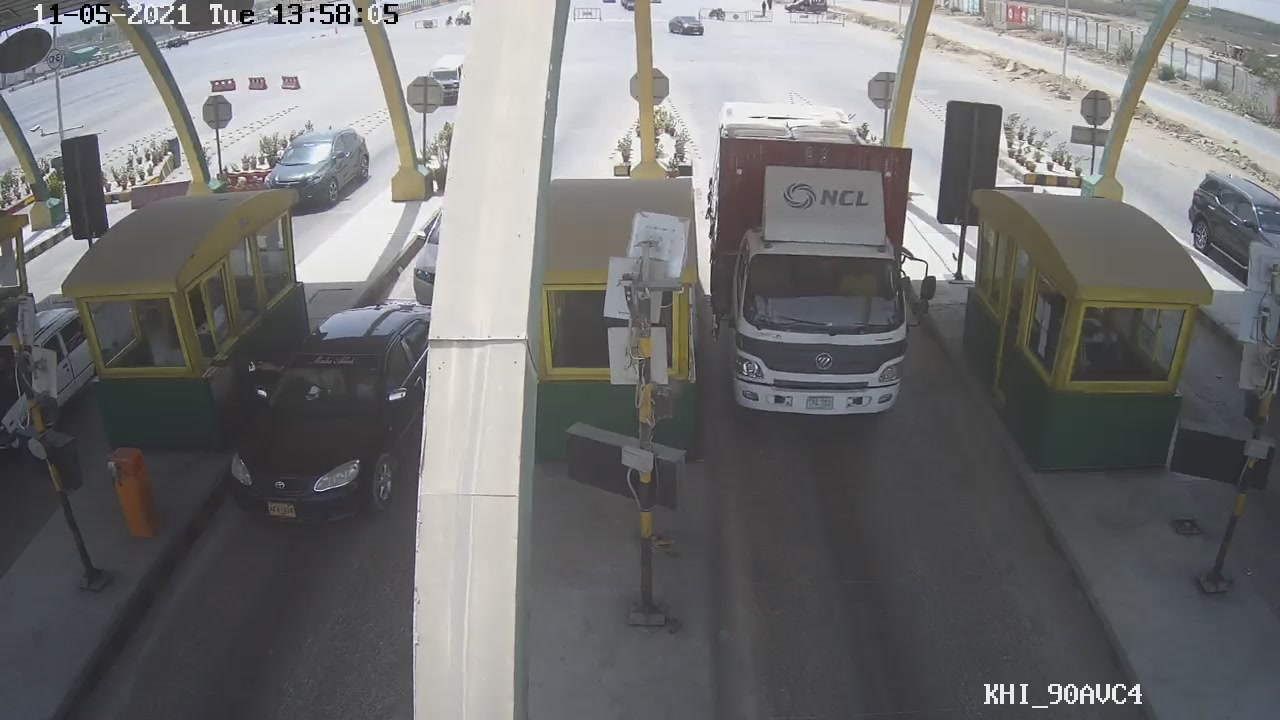F6: (710, 103, 925, 424)
